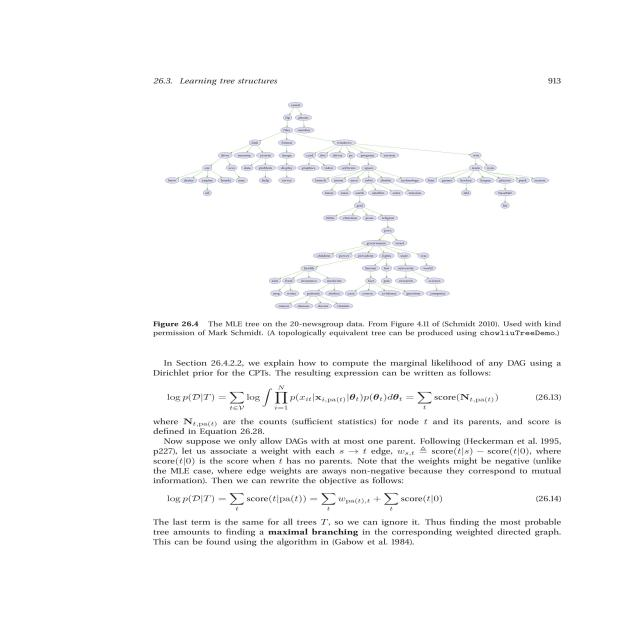diagram: (101, 89, 640, 339)
